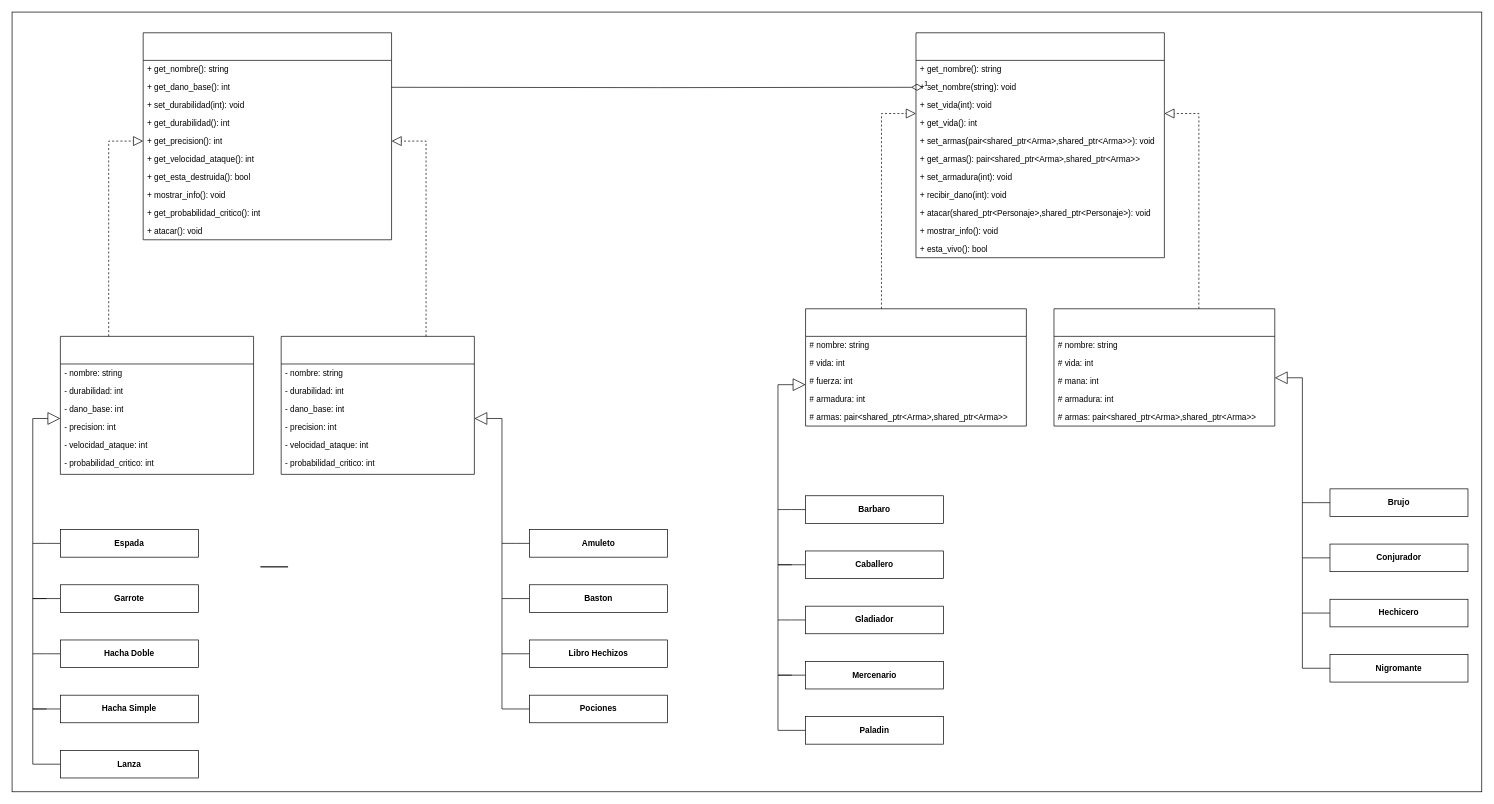
Image size: 1494x804. Some labels were removed from this diagram. The shapes that lost their labels are listed below. From the top down, each one's box as (x1, y1, x2, y2) in pixels, then its label:
(142, 32, 392, 240): <<interface>> Arma
(915, 32, 1164, 258): <<interface>> Personaje
(805, 308, 1026, 426): {abstract} Guerreros
(1053, 308, 1275, 426): {abstract} Magos
(60, 336, 254, 474): {abstract} ArmaCombate
(280, 336, 474, 474): {abstract} ArmaMagica
